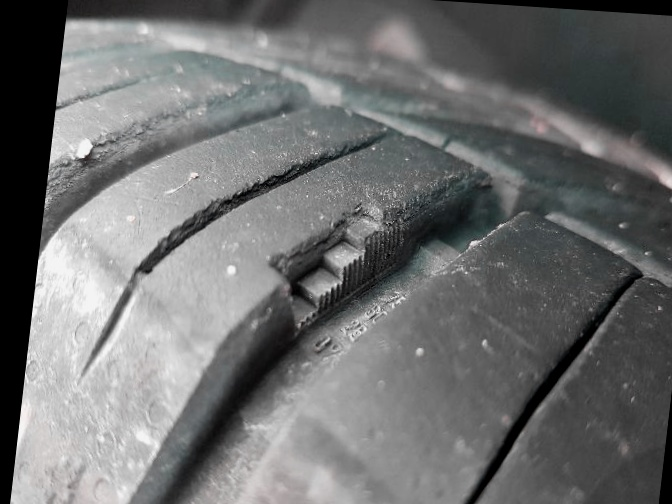temoin:90: (248, 179, 432, 356)
